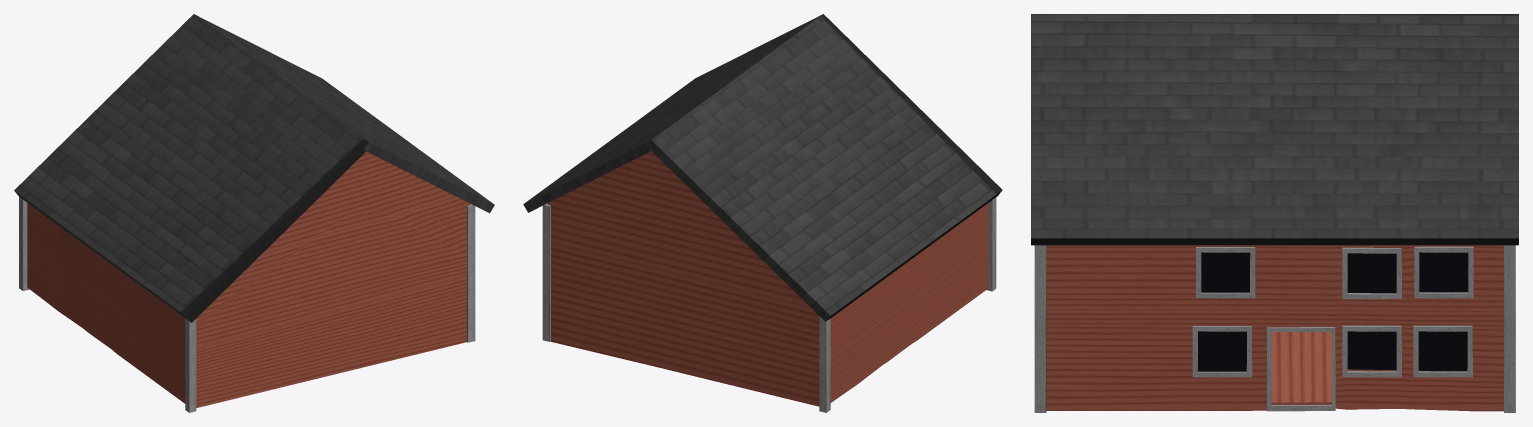
File: house.fbx
3 views of the same model, side by side, from view 1: azimuth 30°, elevation 25°; view 2: azimuth 150°, elevation 25°; view 3: azimuth 270°, elevation 25° (orthographic). The views are drawn at different scales.
Parts seen in each view (by area): view 1: pCube46; view 2: pCube46; view 3: pCube46.
Boxes of the visible parts, x1,y1,x2,y2 form: pCube46: (14, 14, 494, 412); pCube46: (523, 14, 1002, 412); pCube46: (1031, 14, 1518, 412).
Size of the model in its own units: 11.11 by 7.97 by 10.78.
1 material, 1 textured.
